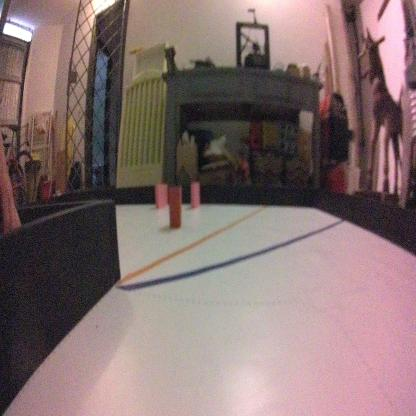magenta: (153, 178, 165, 210), (189, 180, 201, 212)
red: (167, 182, 182, 234)
